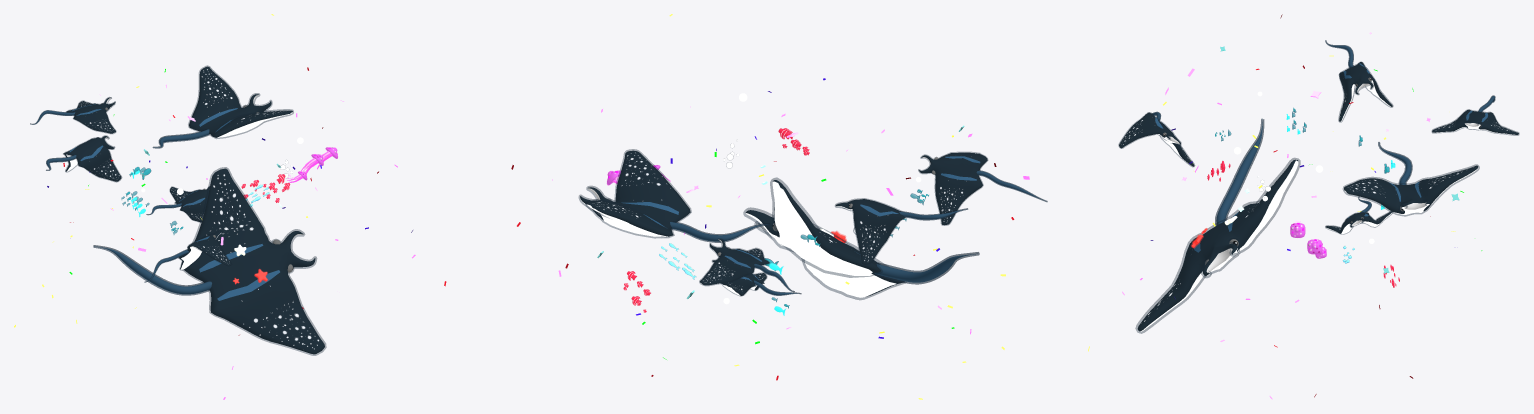
The model's file is magic_ocean.glb.
3 views of the same model, side by side, from view 1: azimuth 30°, elevation 25°; view 2: azimuth 150°, elevation 25°; view 3: azimuth 270°, elevation 25° (orthographic). The views are drawn at different scales.
Visible parts, largest first — view 1: Object_50, Object_34, Object_6, Object_4, Object_33, Object_49, Object_31; view 2: Object_50, Object_49, Object_34, Object_6, Object_33, Object_4, Object_31; view 3: Object_50, Object_34, Object_49, Object_6, Object_33, Object_5, Object_22, Object_31, Object_4.
Part boxes in pixels (x1,y1,x2,y2): Object_50: [63, 66, 324, 354]; Object_34: [63, 135, 326, 355]; Object_6: [34, 110, 211, 294]; Object_4: [69, 104, 279, 300]; Object_33: [66, 65, 293, 222]; Object_49: [66, 105, 292, 269]; Object_31: [30, 105, 293, 282]; Object_50: [580, 150, 987, 296]; Object_49: [581, 162, 896, 297]; Object_34: [666, 152, 988, 300]; Object_6: [670, 171, 1044, 295]; Object_33: [578, 149, 769, 296]; Object_4: [621, 156, 980, 281]; Object_31: [597, 157, 1047, 292]; Object_50: [1119, 62, 1518, 331]; Object_34: [1118, 61, 1393, 333]; Object_49: [1140, 80, 1518, 331]; Object_6: [1152, 42, 1494, 225]; Object_33: [1325, 109, 1519, 234]; Object_5: [1168, 83, 1478, 272]; Object_22: [1290, 223, 1326, 258]; Object_31: [1152, 40, 1495, 265]; Object_4: [1155, 63, 1487, 252].
Bounding box in the file's own units: 7.44 × 4.82 × 5.33.
Materials: 40 (4 with a texture image).
